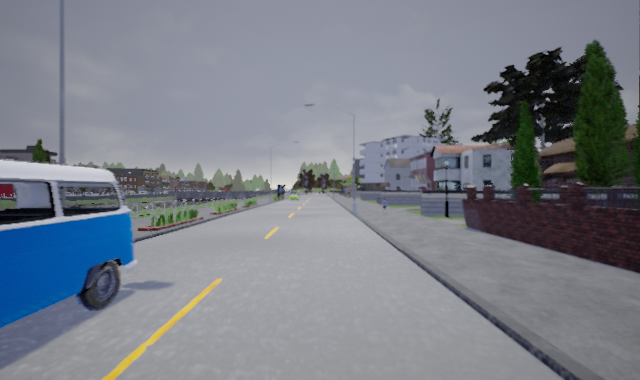vehicle: (1, 156, 137, 330)
